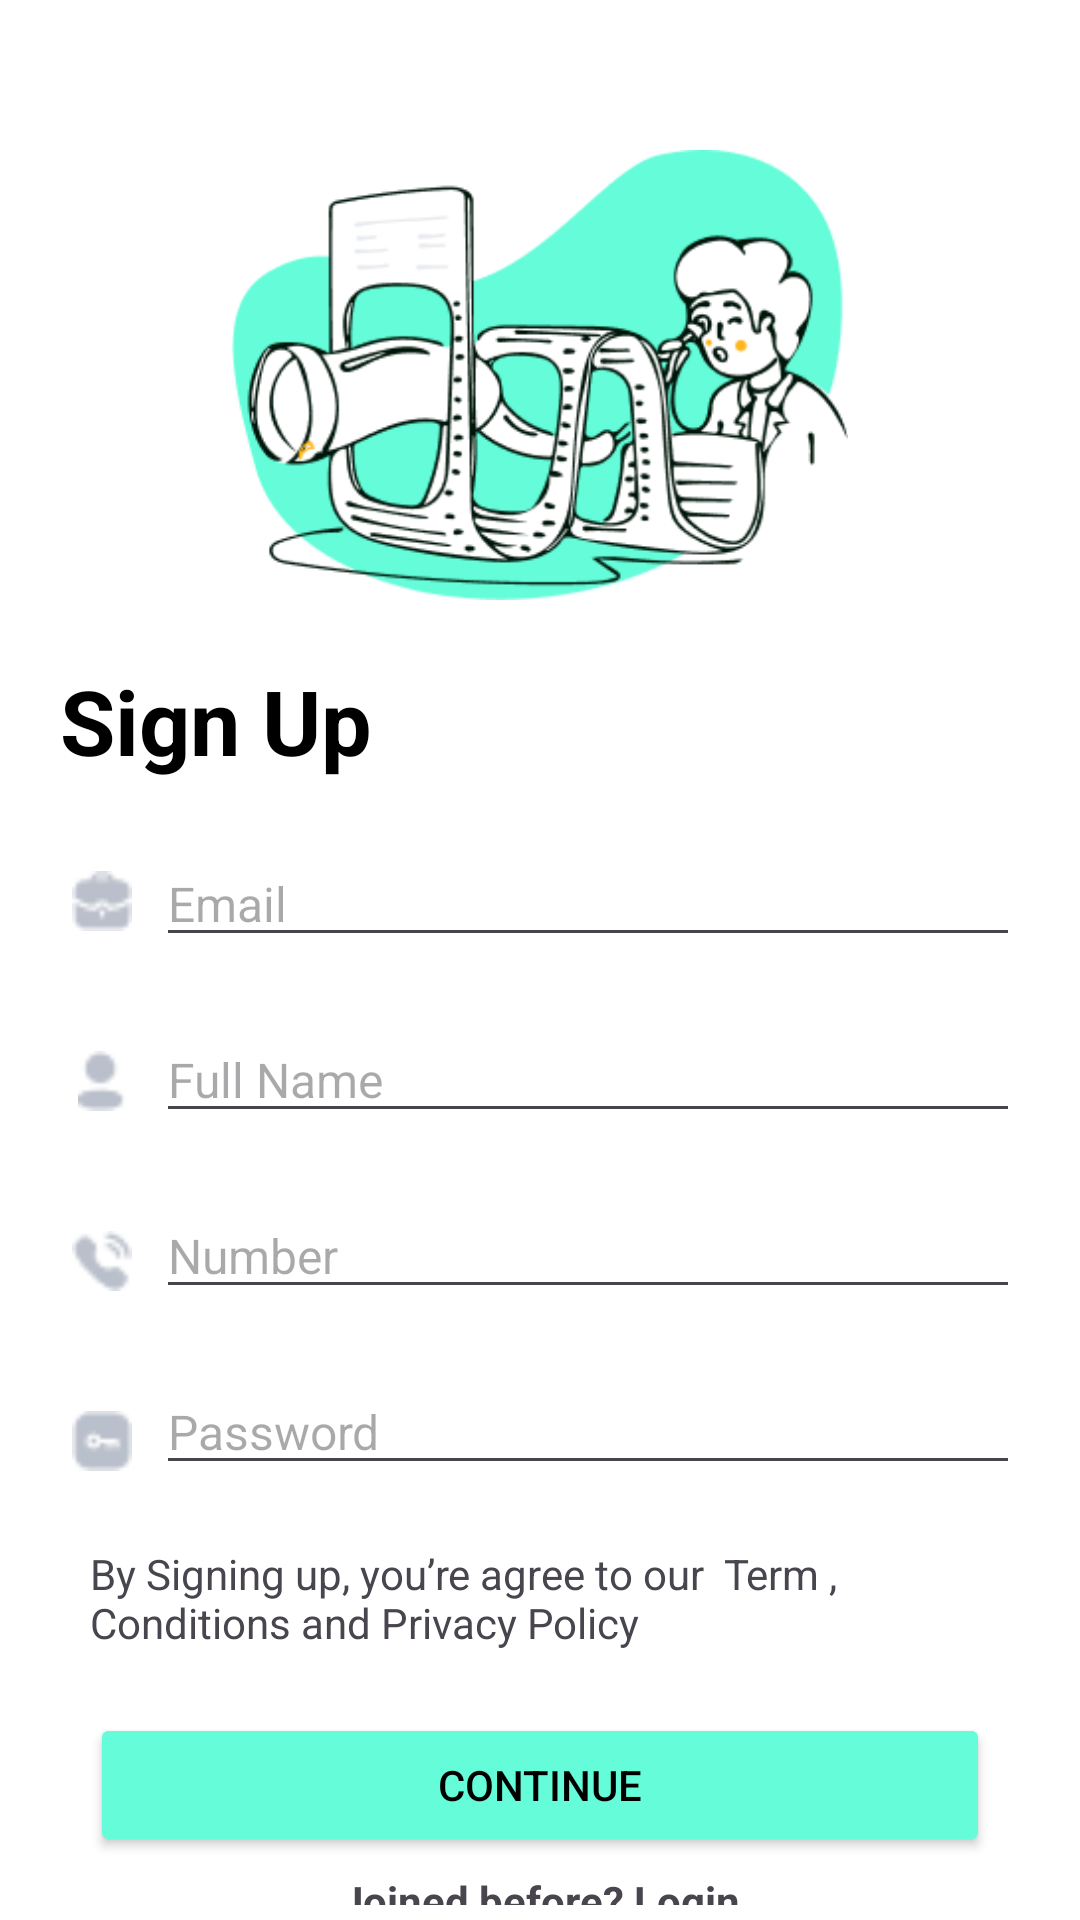

Icon click points for this 1080x1920 phone screenshot, format [x,y]:
calling: [102,1262]
profile: [100,1081]
work: [102,901]
